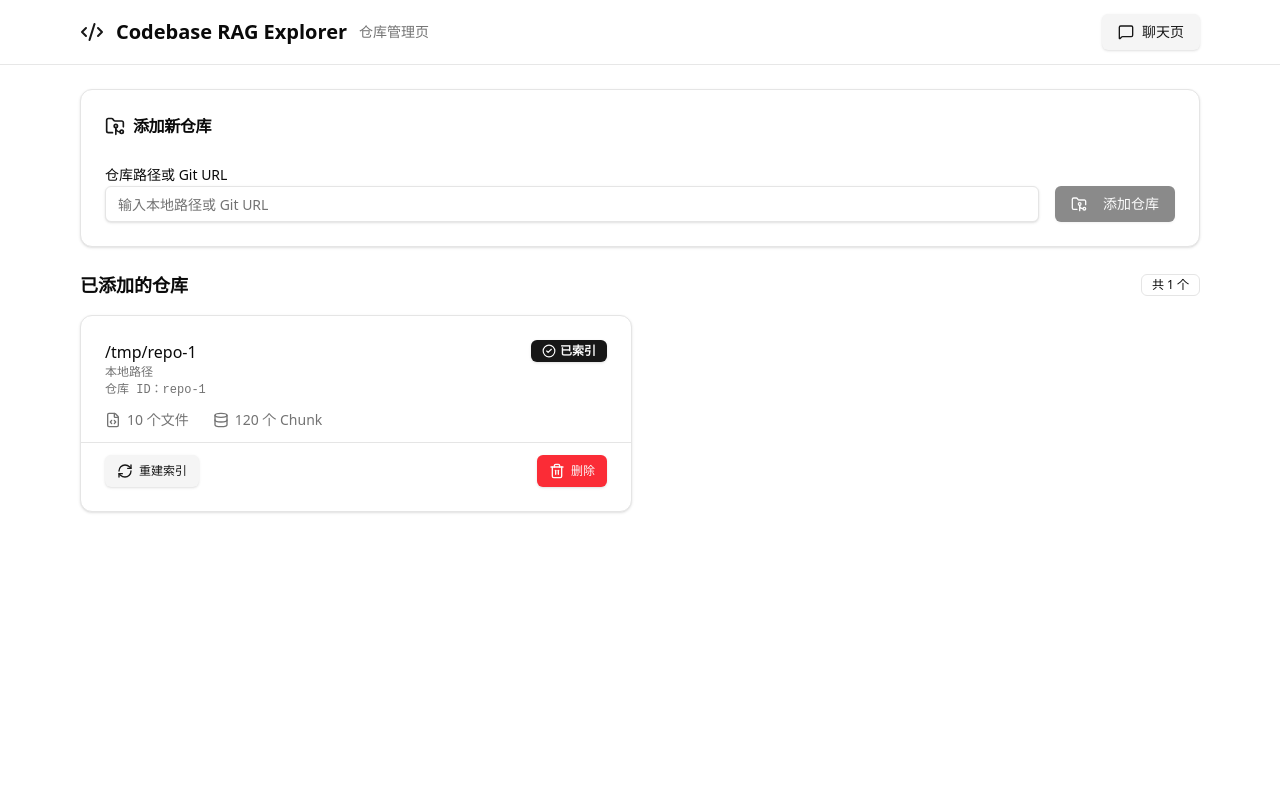
ReposPage › shows fallback message when duplicate repo refresh fails
Expected: the text "/tmp/repo-1" is shown, [105,341,197,363]
In the field with placeholder "输入本地路径或 Git URL": (572, 204) [105,186,1039,222], type "/tmp/repo-1/"
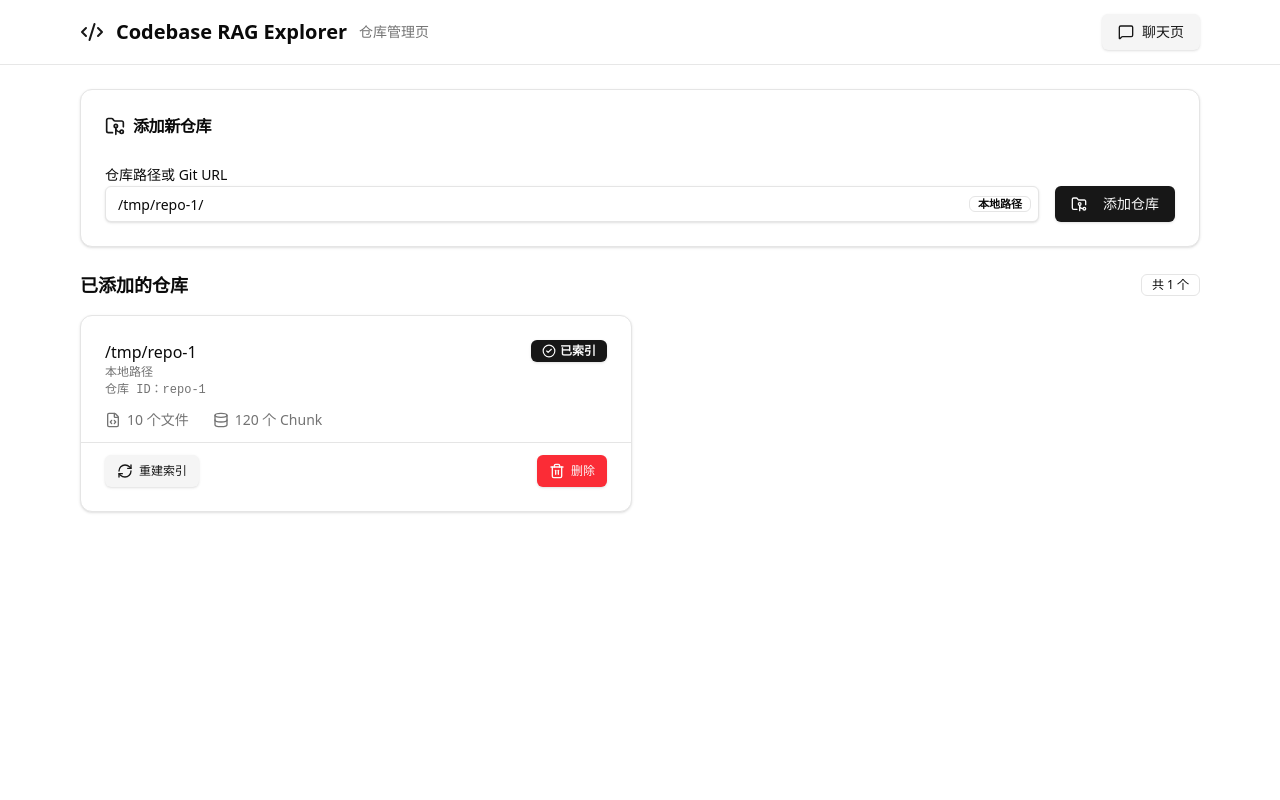
Click the button "添加仓库": (1115, 204) [1055,186,1175,222]
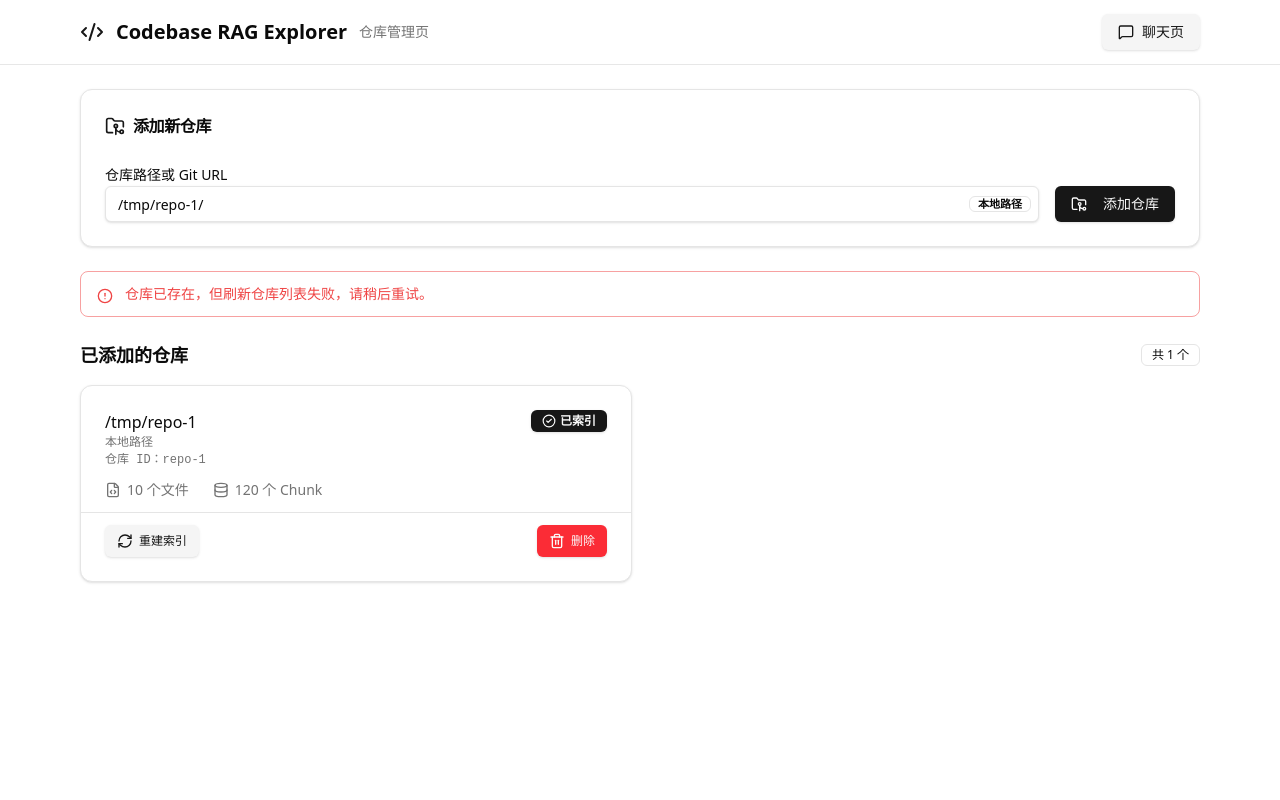
Expected: the text "仓库已存在，但刷新仓库列表失败，请稍后重试。" is shown, [125,284,433,303]
